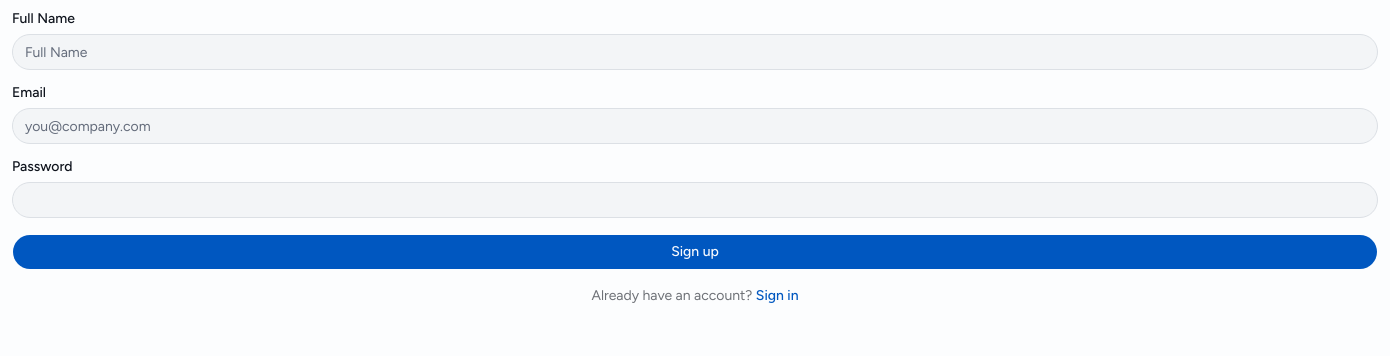
SignUpForm › shows a root error when the action fails
The width and height of the screenshot is (1390, 356).
Type "Ada Lovelace" into the field with placeholder "Full Name" at (695, 52), box [12,34,1378,70]
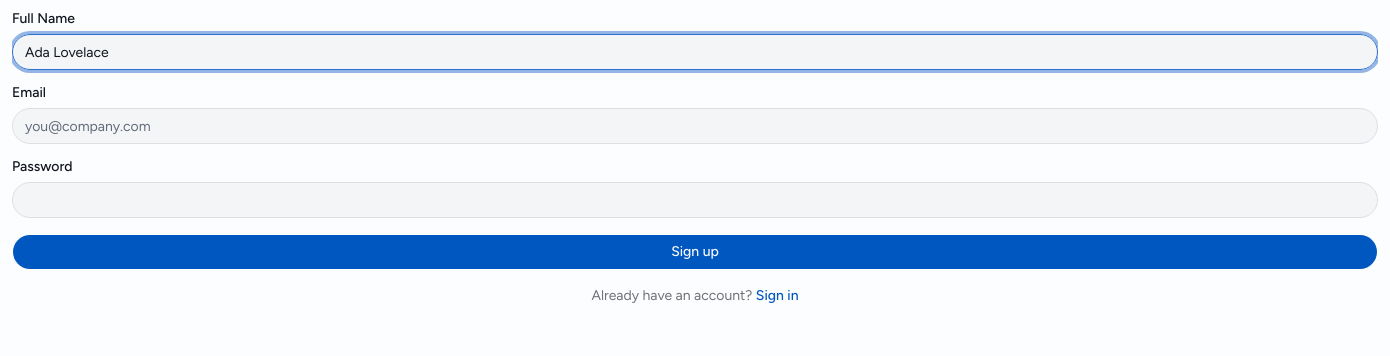
Type "ada@example.com" into the field labelled "Email" at (695, 126), box [12,108,1378,144]
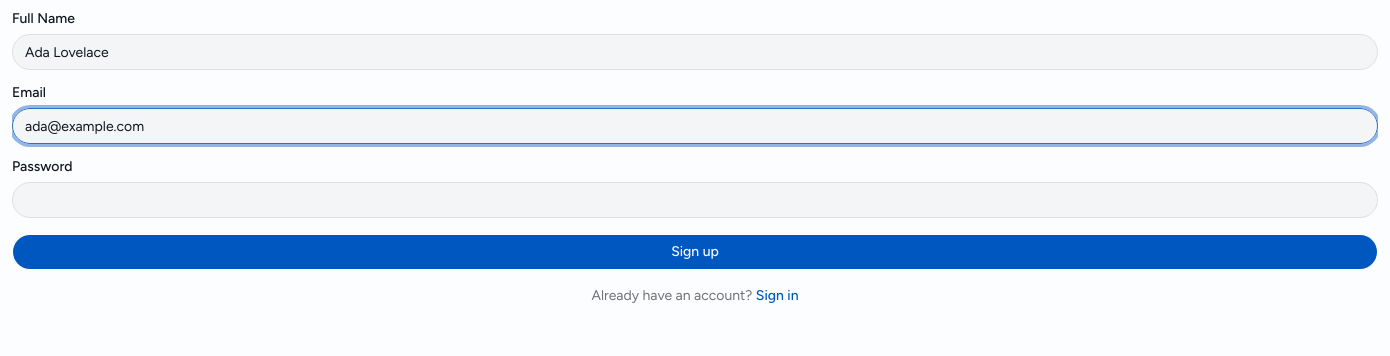
Type "supersecret" into the password field labelled "Password" at (695, 200), box [12,182,1378,218]
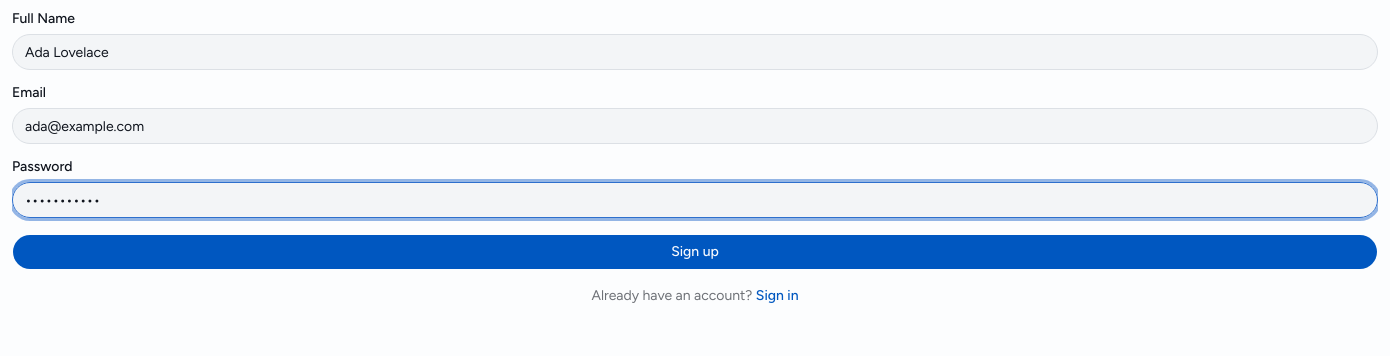
Click the submit button at (695, 252), box [12,234,1378,270]
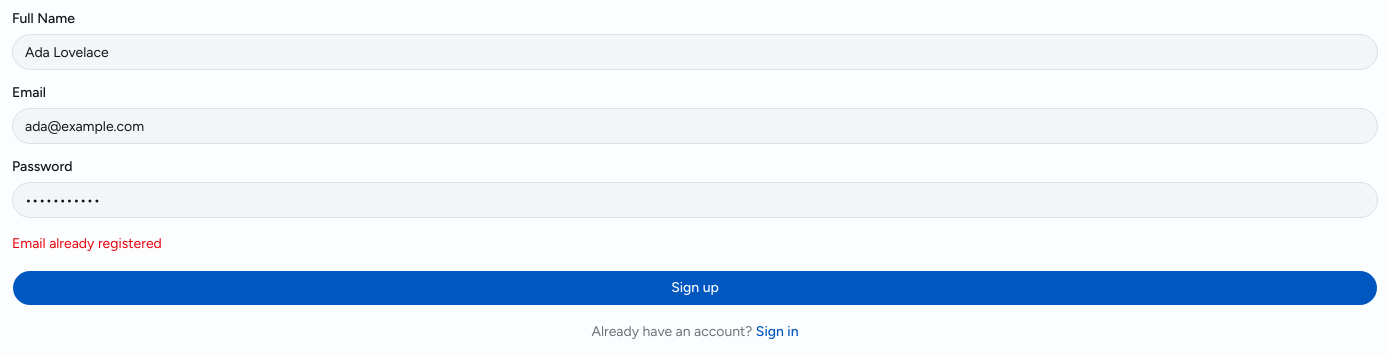
Result: the message reads "Email already registered" at [12,235,162,252]
